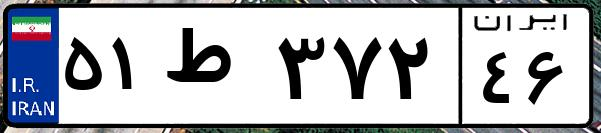1: (110, 28, 158, 98)
2: (385, 28, 445, 110)
3: (270, 28, 330, 110)
4: (475, 38, 525, 113)
5: (57, 26, 110, 100)
6: (525, 38, 570, 115)
7: (330, 28, 385, 110)
ط: (158, 20, 270, 120)
